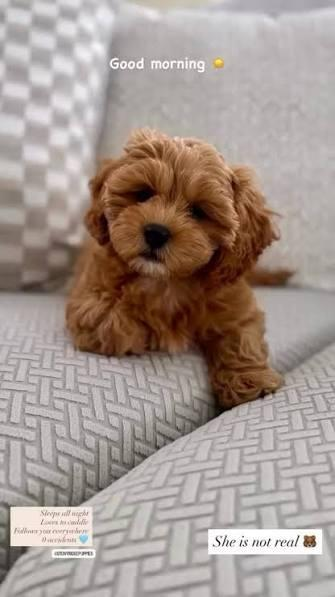puppy-dog: (62, 129, 297, 410)
